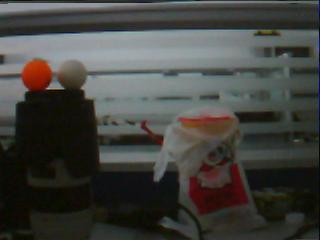oball: (21, 59, 51, 91)
